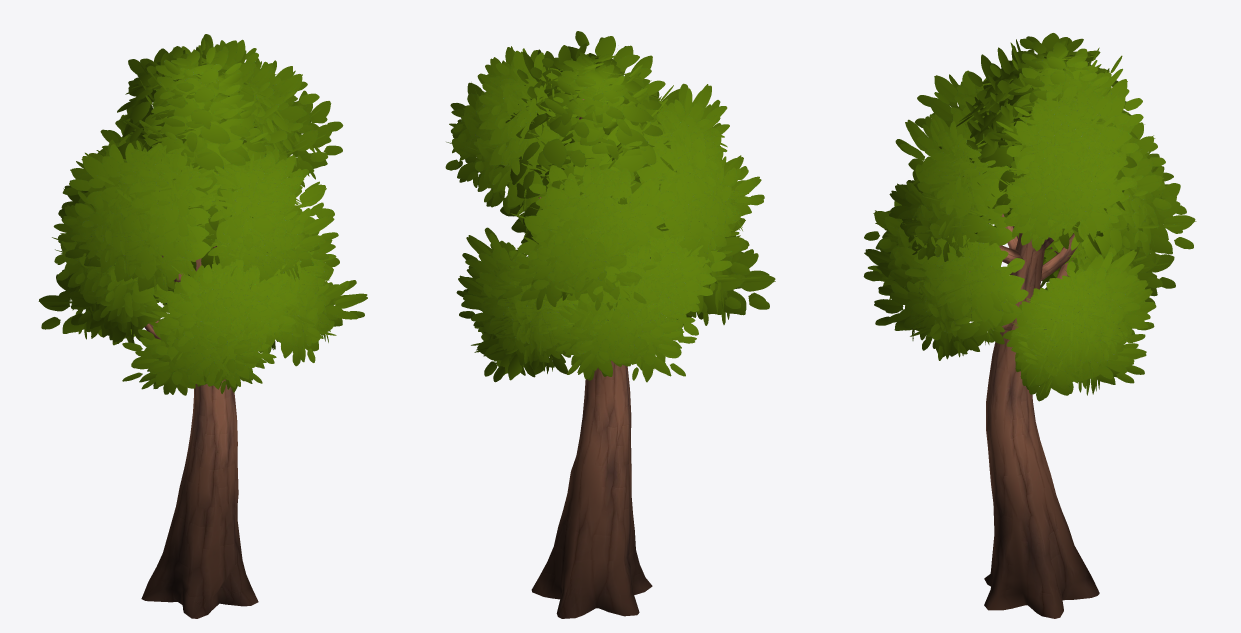
The model's file is tree1.glb.
3 views of the same model, side by side, from view 1: azimuth 30°, elevation 25°; view 2: azimuth 150°, elevation 25°; view 3: azimuth 270°, elevation 25° (orthographic). The views are drawn at different scales.
Parts seen in each view (by area): view 1: CommonTree_1; view 2: CommonTree_1; view 3: CommonTree_1.
Boxes of the visible parts, <box> form: CommonTree_1: <box>38,34,367,618</box>; CommonTree_1: <box>445,31,775,618</box>; CommonTree_1: <box>863,33,1196,618</box>.
Bounding box in the file's own units: 4.31 × 7.26 × 4.58.
2 materials, 2 textured.
